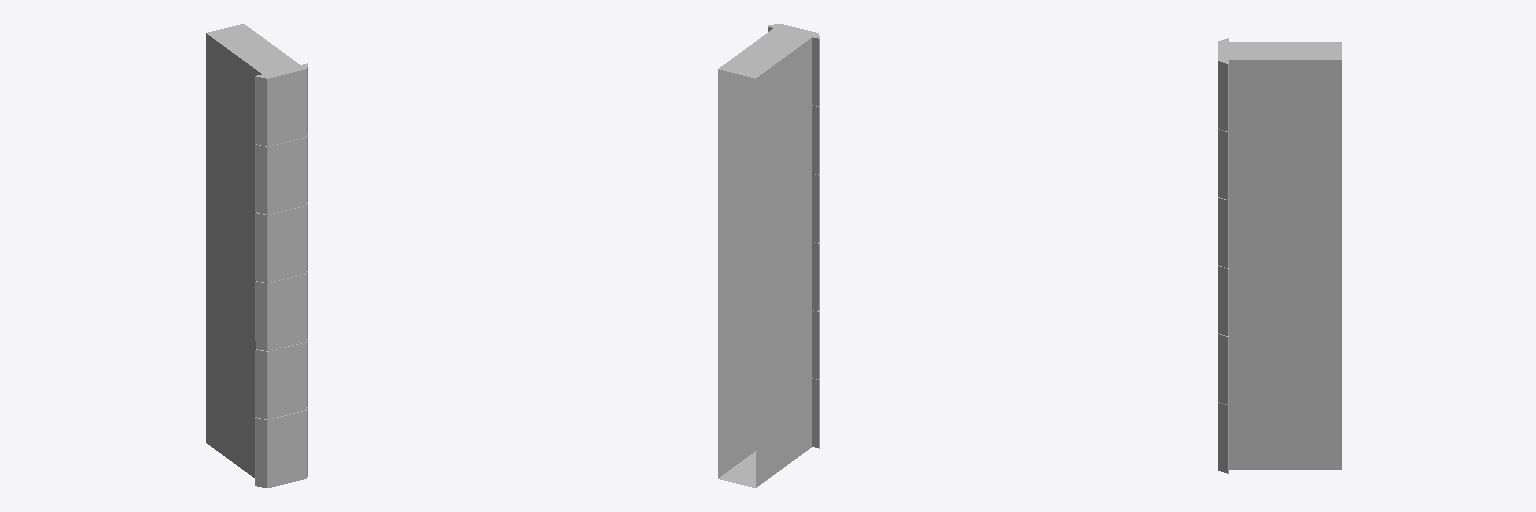
Rendered from smallWall.obj.
3 views of the same model, side by side, from view 1: azimuth 30°, elevation 25°; view 2: azimuth 150°, elevation 25°; view 3: azimuth 270°, elevation 25° (orthographic).
Parts seen in each view (by area): view 1: Cube; view 2: Cube; view 3: Cube.
Boxes of the visible parts, x1=… form: Cube: x1=206, y1=24, x2=307, y2=487; Cube: x1=718, y1=24, x2=819, y2=487; Cube: x1=1218, y1=38, x2=1341, y2=473.
Size of the model in its own units: 0.5404 by 4 by 1.1.